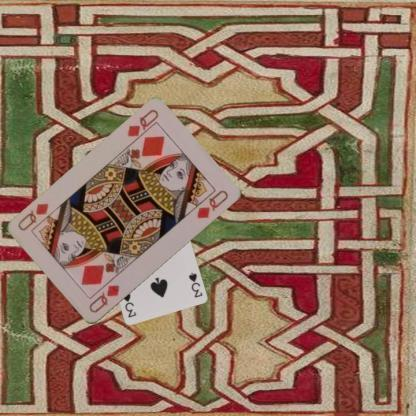3s: (186, 270, 204, 299)
Qd: (125, 106, 160, 146), (86, 281, 121, 315)
